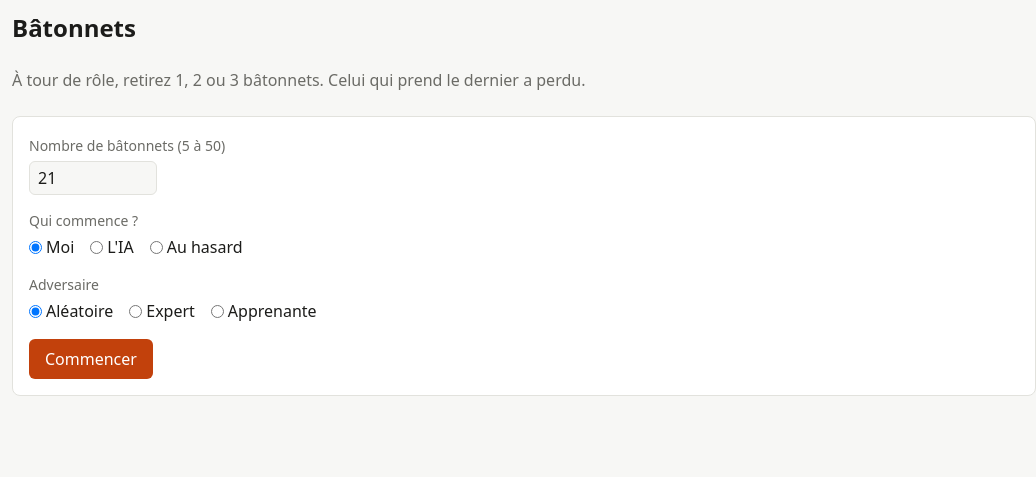
it: Sticks page › shows the result and the tip after a loss, and lets the player replay
Click the button "Commencer": coordinates (91, 359) 29,339 -> 153,379
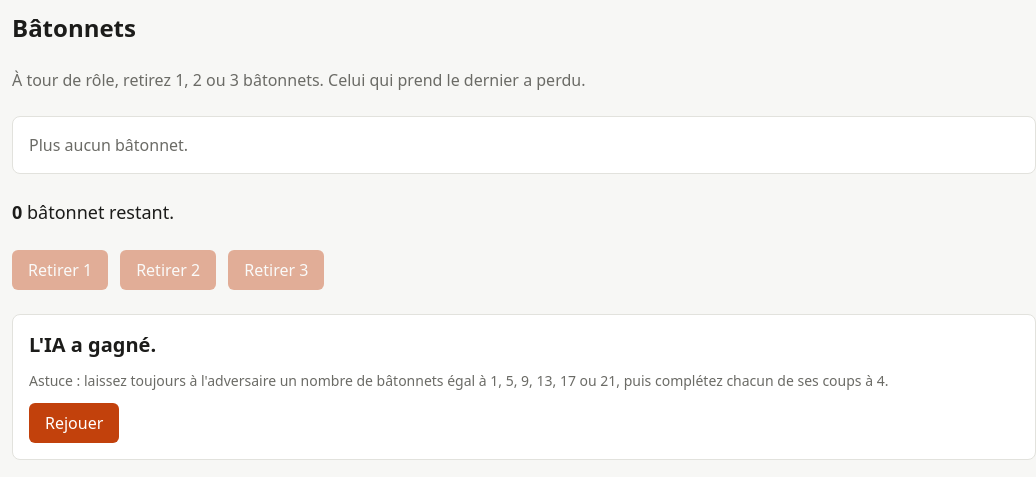
expect the message is shown: met, box 12,314 -> 1035,460
expect the text "L'IA a gagné." is shown: met, box 29,331 -> 156,358
expect the text "Astuce" is shown: met, box 29,371 -> 888,390
Click the button "Rejouer": coordinates (74, 423) 29,403 -> 119,443
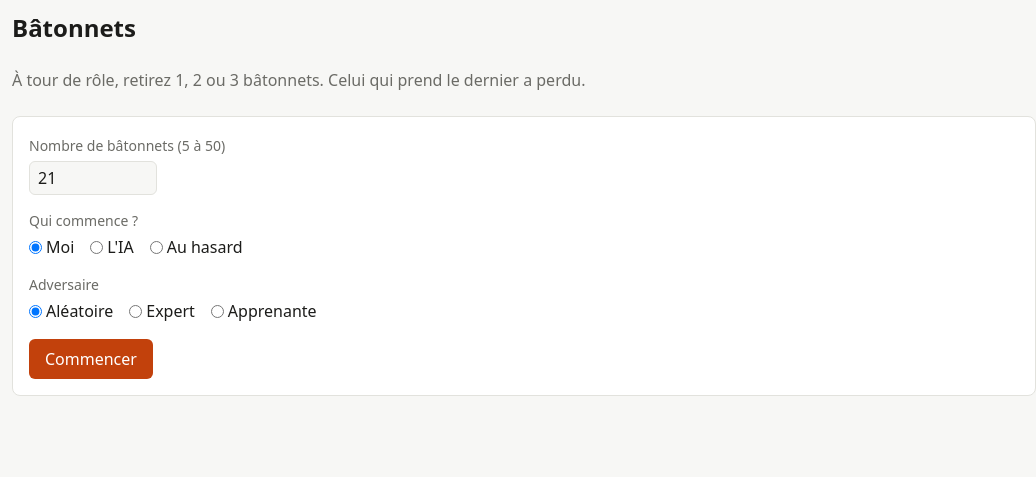
expect the button "Commencer" is shown: met, box 29,339 -> 153,379
